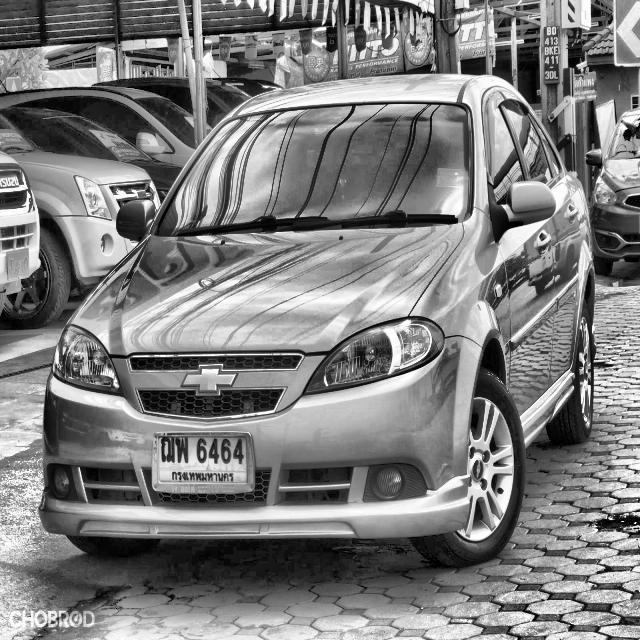license-plate: (152, 427, 257, 498)
